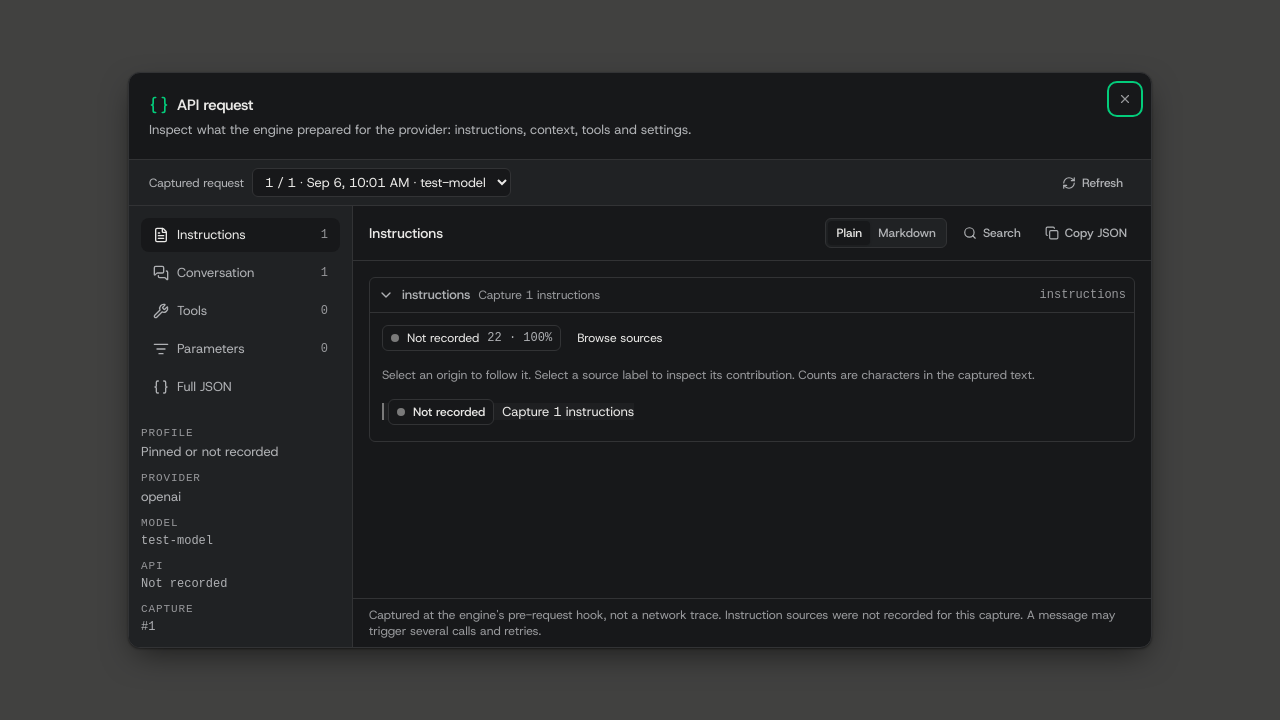
still asks the host again on Refresh, offering a new capture without blanking the one being read
The width and height of the screenshot is (1280, 720).
Click the button with aria-label "Refresh captured requests": (1092,182) [1054,168,1131,196]
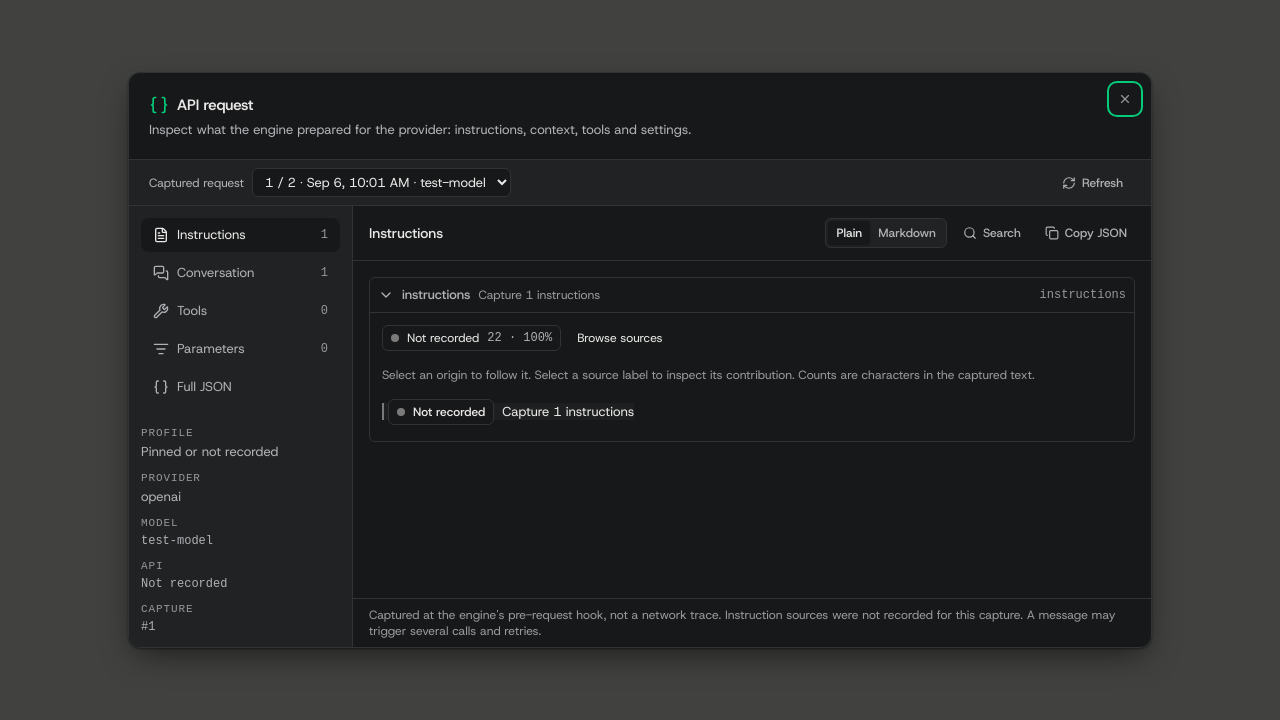
Check: the text "Capture 1 instructions" is shown, box [478,287,600,303]
Check: the dropdown named "Captured request" shows "1 / 2 · Sep 6, 10:01 AM · test-model"
Select "2 / 2 · Sep 6, 10:02 AM · test-model" in the dropdown named "Captured request": (381,182) [252,168,511,197]
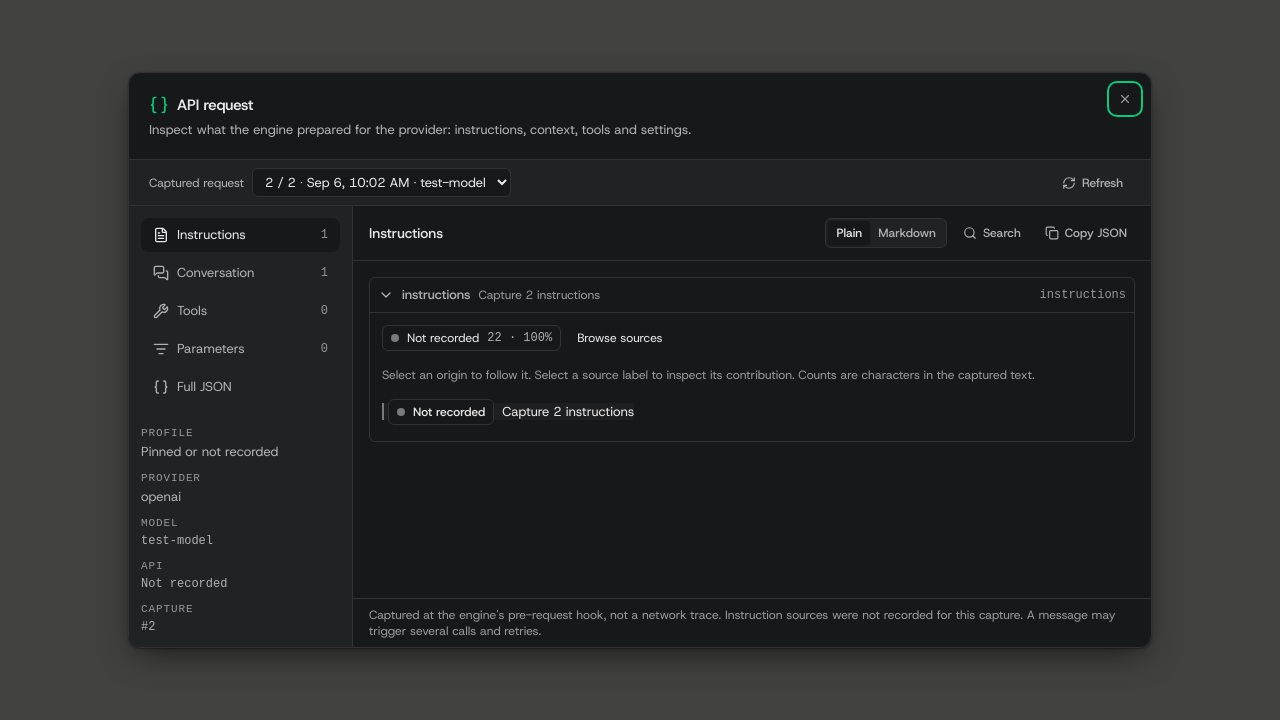
Check: the text "Capture 2 instructions" is shown, box [478,287,600,303]
